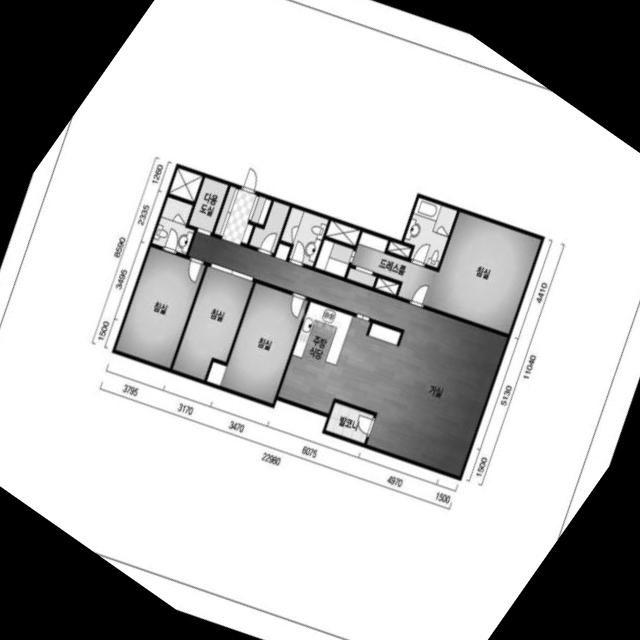background: (0, 0, 640, 640)
space_balconi: (325, 401, 373, 442)
space_bedroom: (397, 211, 540, 333), (115, 246, 204, 367), (220, 282, 307, 403), (172, 266, 253, 379)
space_dressroom: (314, 230, 409, 286)
space_front: (214, 185, 271, 244)
space_kitchen: (278, 301, 403, 413)
space_living_room: (188, 200, 507, 475)
space_multipurpose_space: (188, 176, 227, 231)
space_other: (169, 167, 202, 201), (325, 219, 359, 245), (374, 277, 398, 294), (387, 240, 411, 257)
space_toilet: (403, 197, 457, 267), (280, 206, 328, 266), (152, 196, 193, 254)
